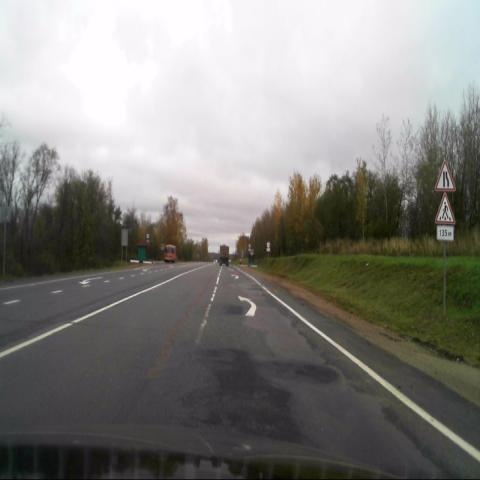8_1_1: (437, 226, 454, 239)
